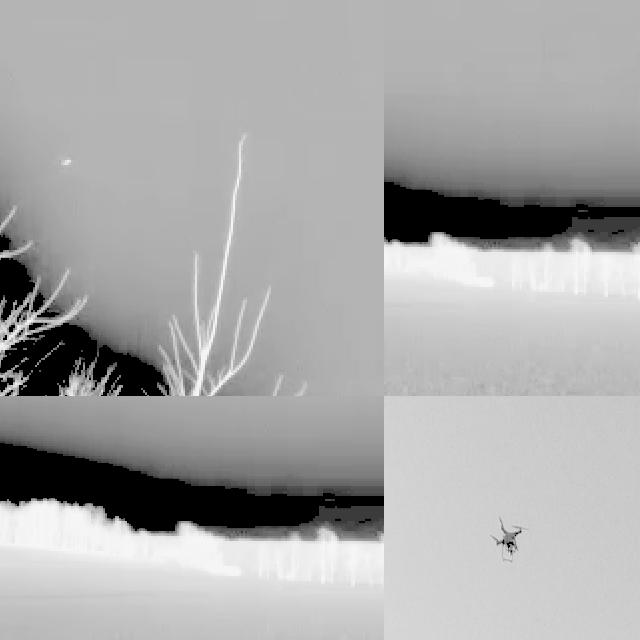0: (55, 150, 81, 182)
drone: (487, 514, 528, 564)
